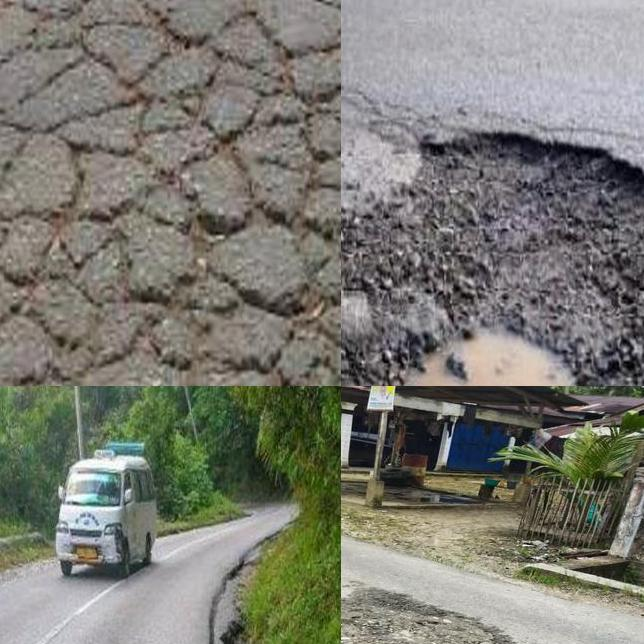Lubang: (341, 140, 644, 386)
Retak Buaya: (0, 0, 341, 386)
